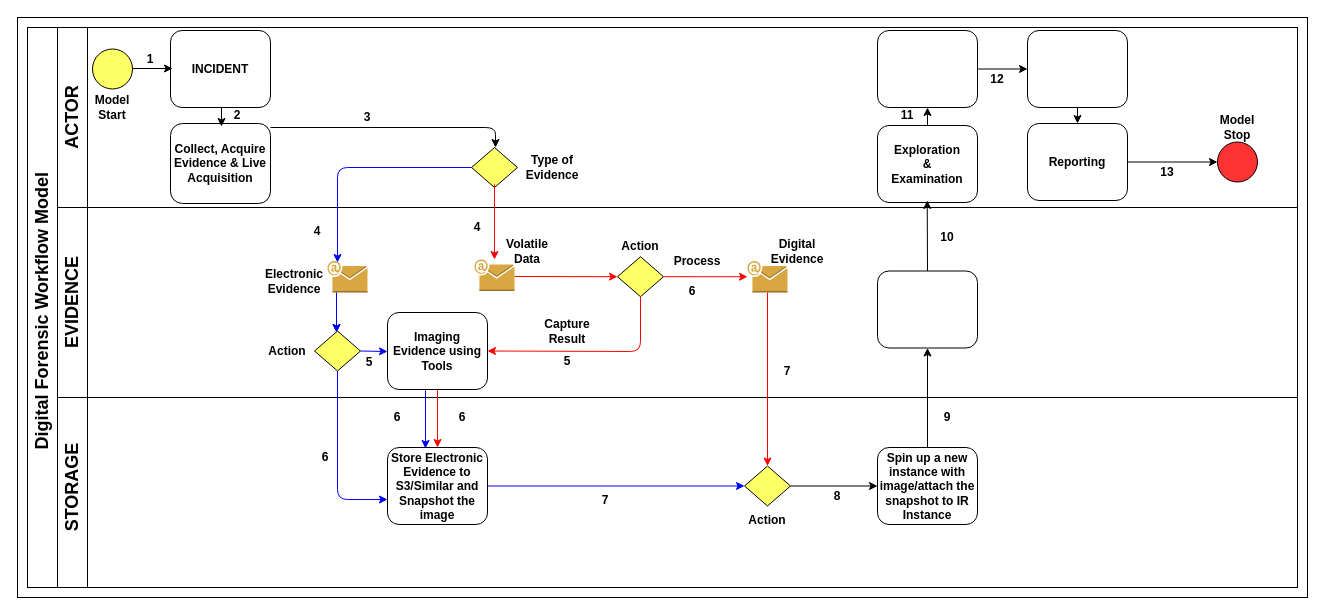
This 1326x615 diagram has some shape labels left out. The box of each missing label's shape, as (x1, y1, x2, y2) in pixels:
Analysis: (876, 30, 978, 108)
Pick up/Download Digital Evidence: (876, 270, 978, 348)
Review: (1026, 30, 1128, 108)
